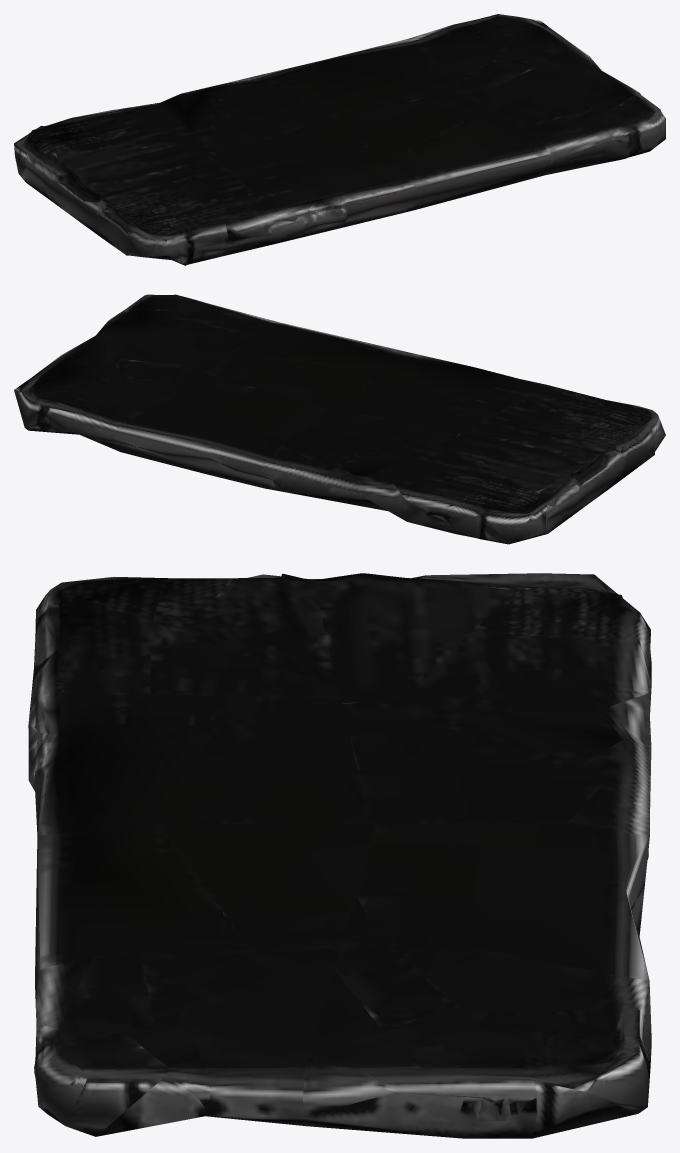
File: phone.glb
3 views of the same model, one above another, from view 1: azimuth 30°, elevation 25°; view 2: azimuth 150°, elevation 25°; view 3: azimuth 270°, elevation 25° (orthographic). The views are drawn at different scales.
Parts seen in each view (by area): view 1: tripo_node_dcc526cb-e54f-40b5-b7ce-04ed9a24b378; view 2: tripo_node_dcc526cb-e54f-40b5-b7ce-04ed9a24b378; view 3: tripo_node_dcc526cb-e54f-40b5-b7ce-04ed9a24b378.
Boxes of the visible parts, x1,y1,x2,y2 form: tripo_node_dcc526cb-e54f-40b5-b7ce-04ed9a24b378: (14, 14, 665, 265); tripo_node_dcc526cb-e54f-40b5-b7ce-04ed9a24b378: (14, 294, 665, 544); tripo_node_dcc526cb-e54f-40b5-b7ce-04ed9a24b378: (28, 573, 651, 1138).
Bounding box in the file's own units: 0.9789 × 0.0652 × 0.5001.
Materials: 1 (1 with a texture image).
